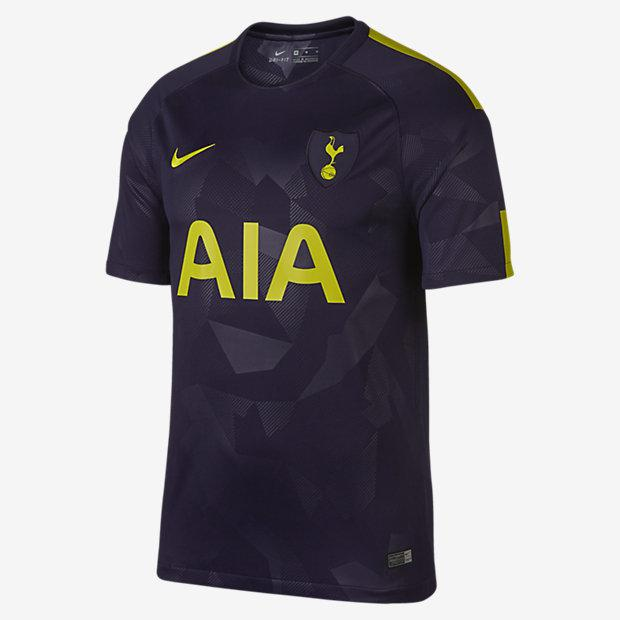teeshirt: (90, 14, 527, 620)
